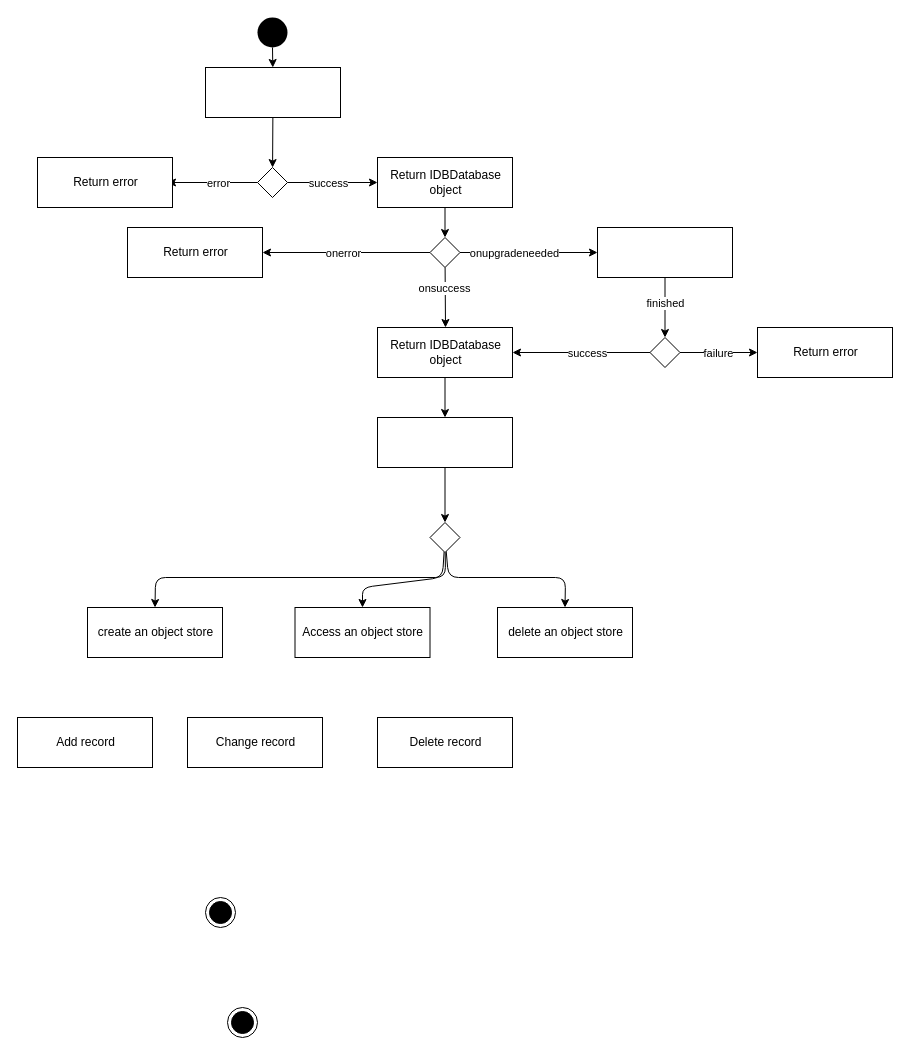
Some shapes in this 910 by 1055 pixel diagram are drawn without their labels. Each missing label, with the centre of its shape:
Create IDBTransaction object: point 444,442
Establish connection to indexedDB: point 272,92
Initialize...: point 664,252
